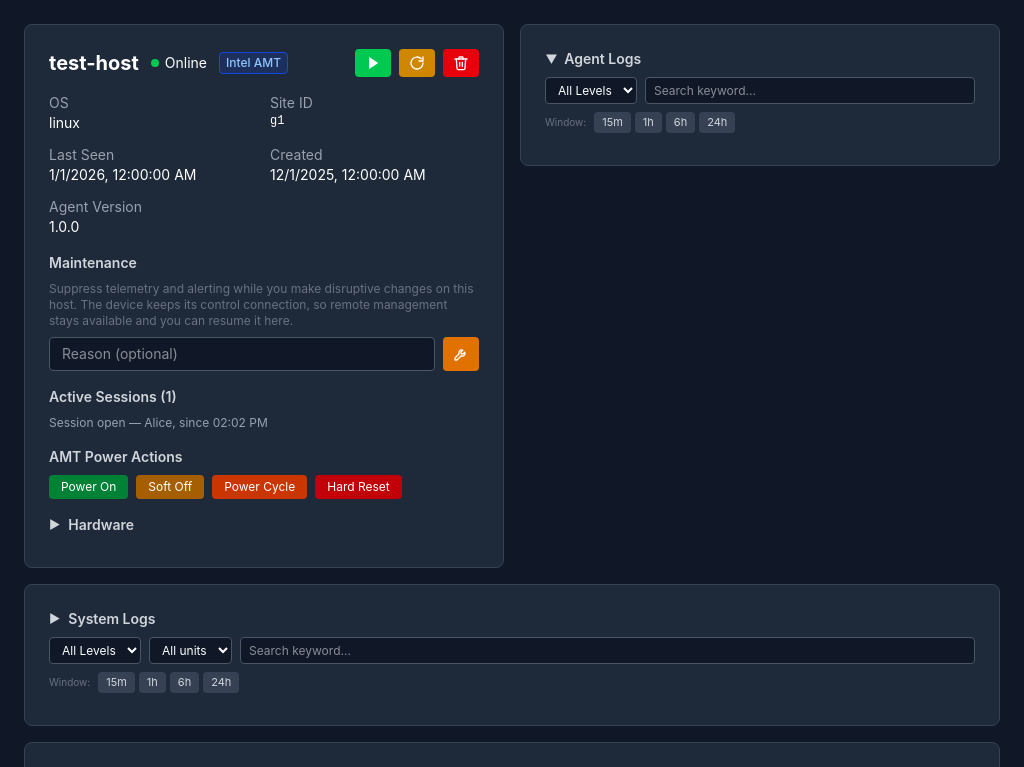
it: DeviceDetail — power and Intel AMT › AMT Power Cycle button toggles between default and confirm labels
Step 1. Click the button "Power Cycle" → (260, 487), box 212,475 -> 307,499
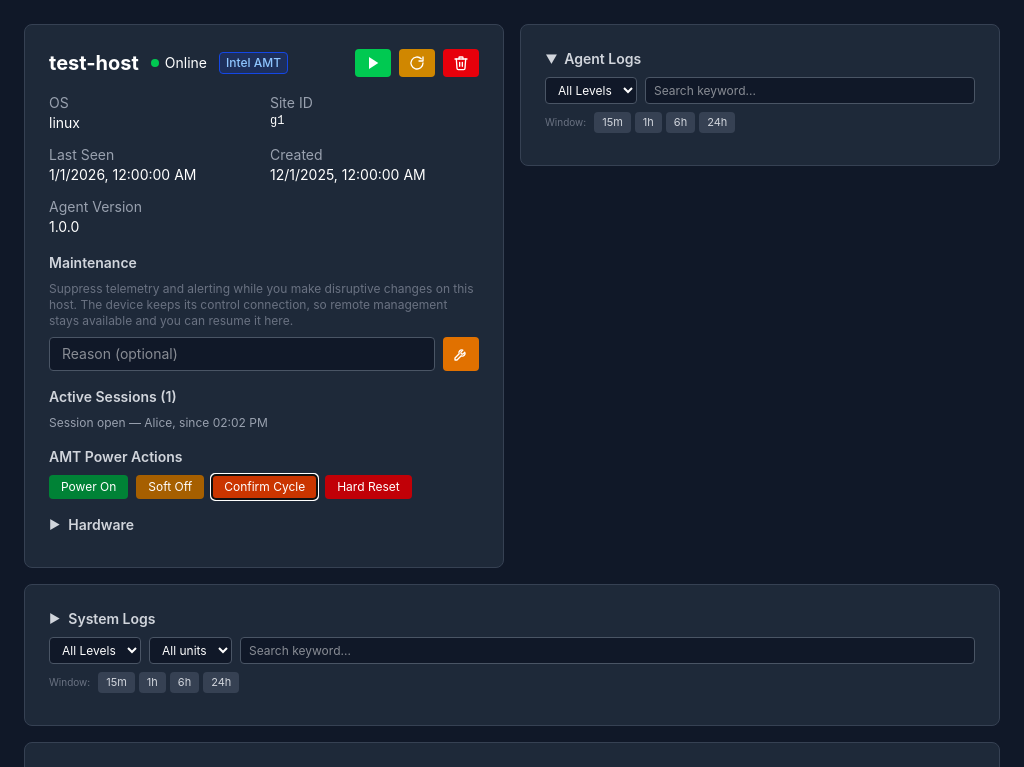
Expected: the button "Confirm Cycle" is shown, 212,475 -> 317,499
Expected: the button "Power Cycle" is gone
